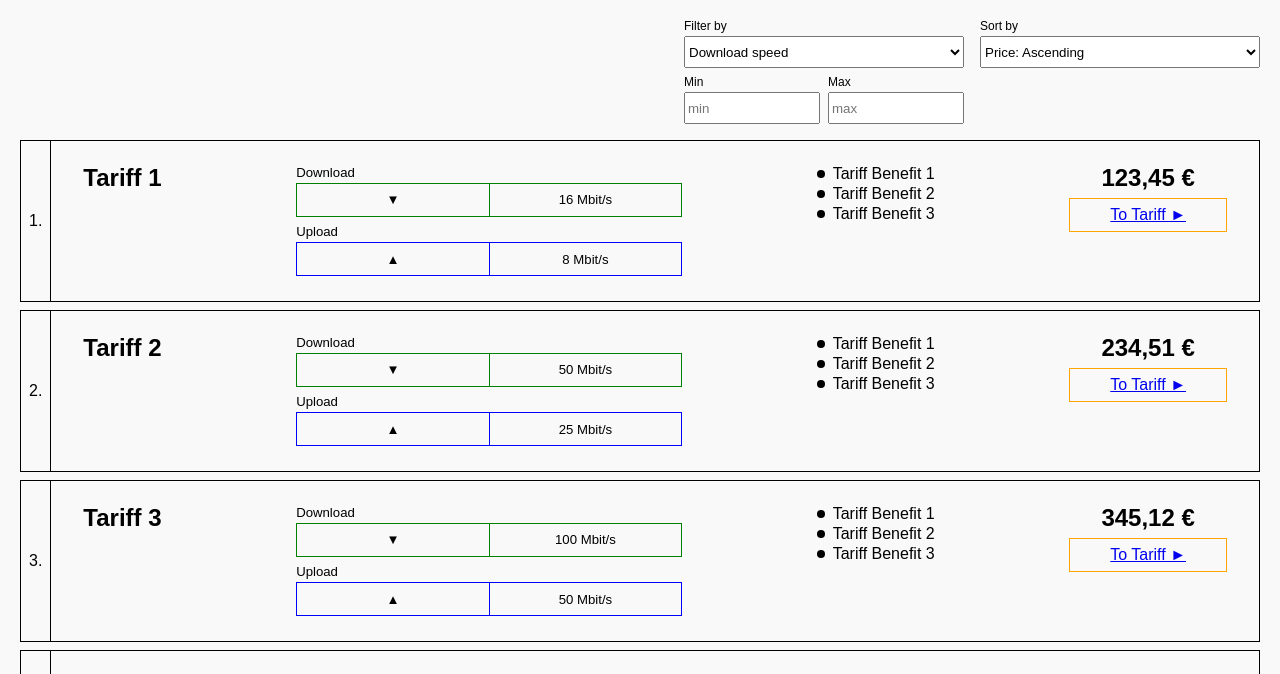
Tariffs component › applies filtering correctly
Select "Download speed" in the dropdown labelled "Filter by" at (824, 52), box [684, 36, 964, 68]
Type "100" into the number field labelled "Min" at (752, 108), box [684, 92, 820, 124]
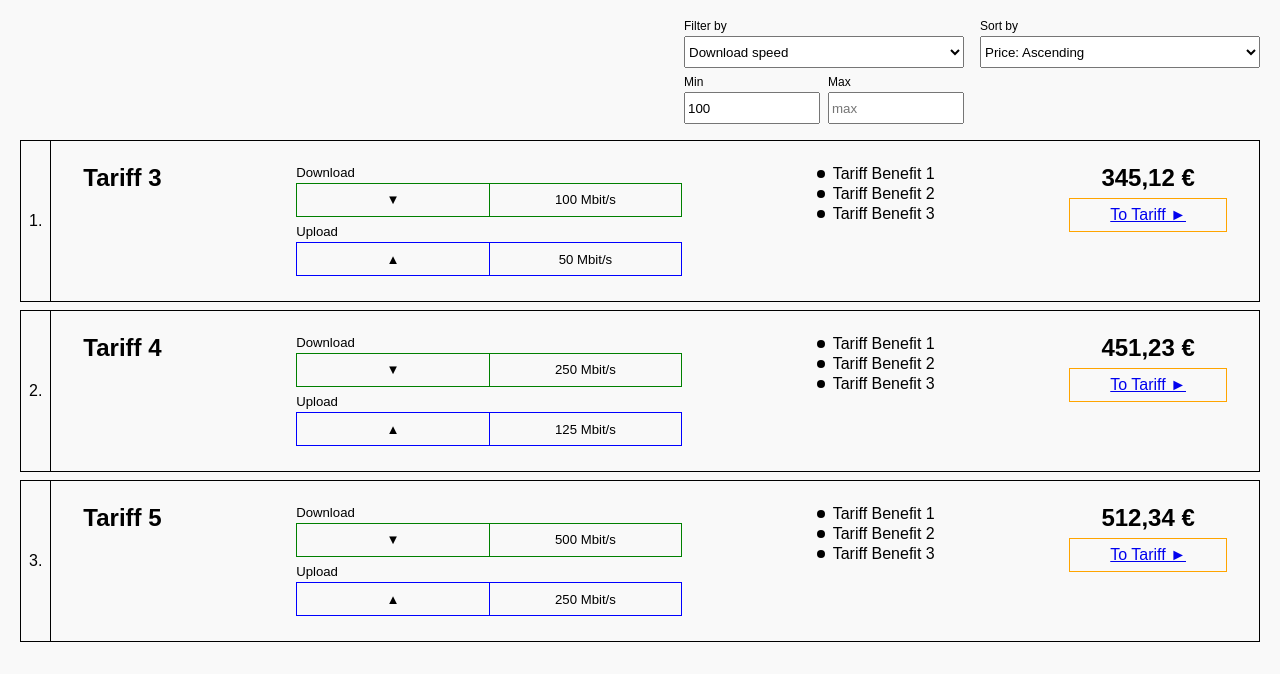
expect the number of list items is 3: met, box [20, 140, 1260, 302]; [20, 310, 1260, 472]; [20, 480, 1260, 642]
